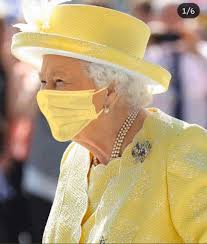mask: (35, 89, 98, 141)
